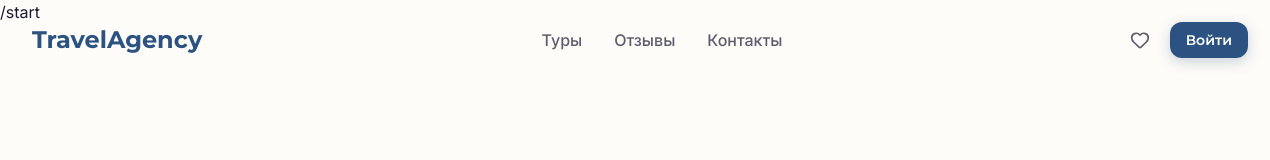
Test: Header › navigates tours, reviews and contacts from the desktop menu
Click the button "Туры" at point(562, 40), box [542,28,582,52]
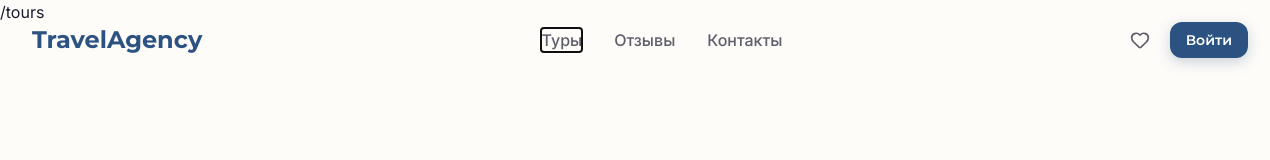
Check: the text with test id "location" reads "/tours", box [0,2,44,22]
Click the link "Отзывы" at point(645, 40), box [614,28,675,52]
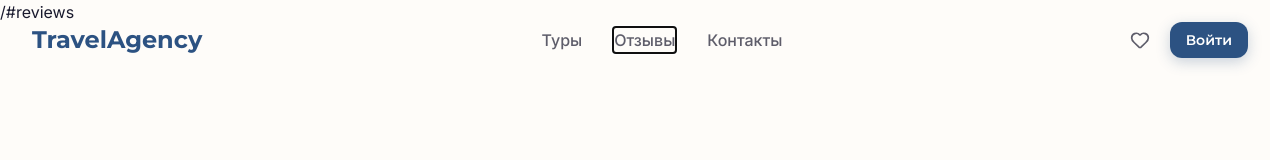
Check: the text with test id "location" reads "/#reviews", box [0,2,74,22]
Click the link "Контакты" at point(745, 40), box [707,28,782,52]
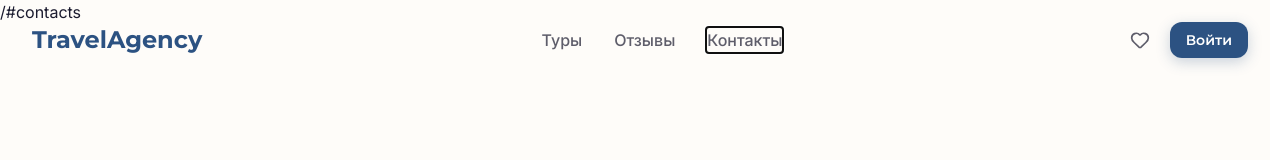
Check: the text with test id "location" reads "/#contacts", box [0,2,81,22]
